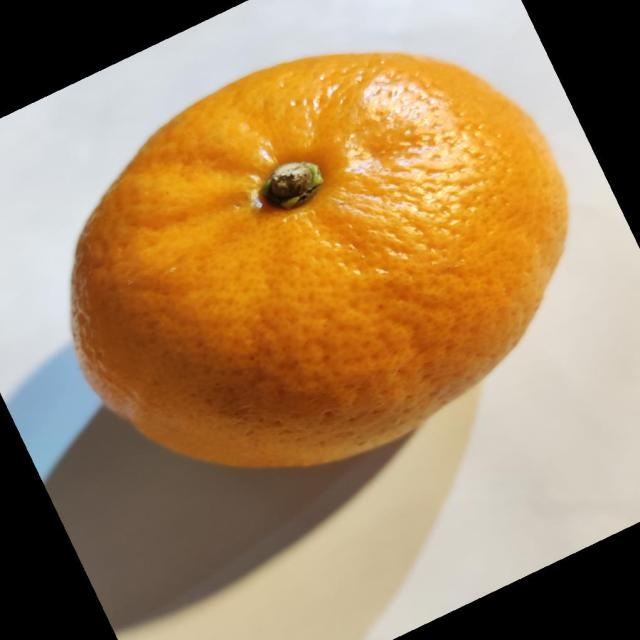agrume: (69, 50, 569, 470)
